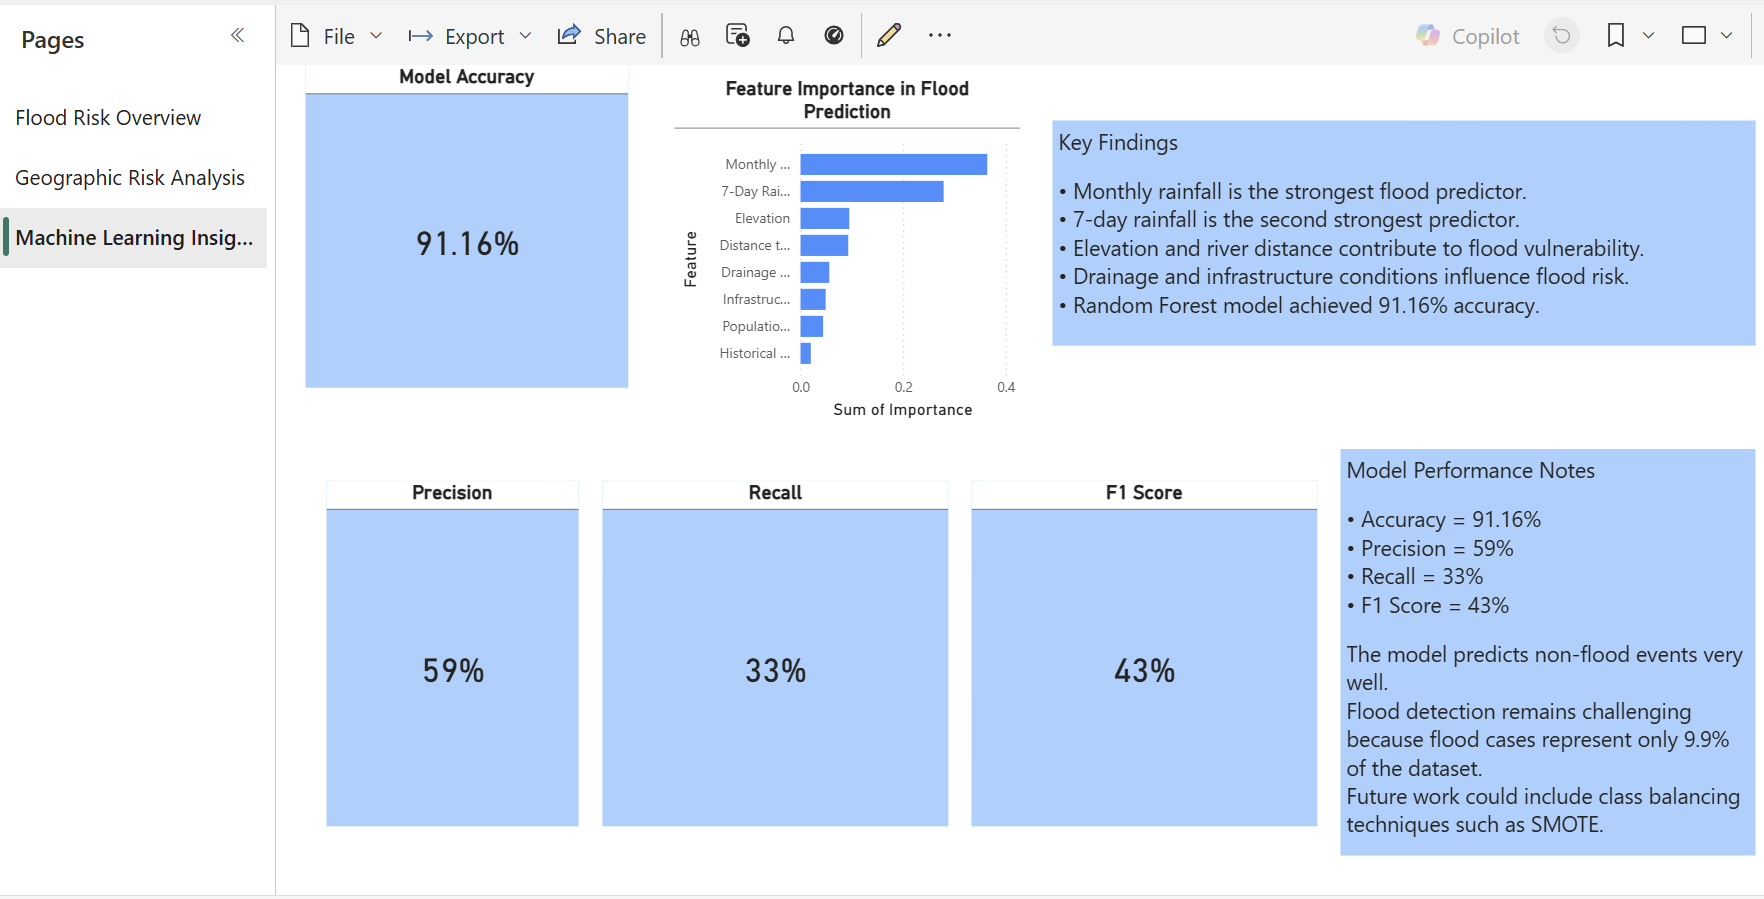

This screenshot's page, from the dashboard's own definition file:
{"tool":"powerbi","page":{"name":"Machine Learning Insights","canvas":[1280,720],"ordinal":2},"visuals":[{"type":"card","title":"Model Accuracy","fields":{"Values":["sri_lanka_flood_risk_dataset_25.Model Accuracy"]},"box":[20,0,280,280],"z":0},{"type":"clusteredBarChart","title":"Feature Importance in Flood Prediction","fields":{"Category":["FeatureImportance.Feature"],"Y":["Sum(FeatureImportance.Importance)"]},"box":[340,10,300,300],"z":1000},{"type":"card","title":"Precision","fields":{"Values":["sri_lanka_flood_risk_dataset_25.Precision"]},"box":[38.3,360,218.3,300],"z":2000},{"type":"card","title":"Recall","fields":{"Values":["sri_lanka_flood_risk_dataset_25.Recall"]},"box":[276.7,360,300,300],"z":3000},{"type":"card","title":"F1 Score","fields":{"Values":["FeatureImportance.F1 Score"]},"box":[596.7,360,300,300],"z":4000},{"type":"textbox","box":[667.5,47.5,610,195],"z":5000},{"type":"textbox","box":[917.5,332.5,360,352.5],"z":5001}]}

Visuals, with their boxes on the page's 1280x720 design canvas (x1, y1, x2, y2). These are canvas units, not pixel positions in the 1764x899 screenshot, which may show the page scaled, cropped or inside an application window:
"Model Accuracy" card: 20, 0, 300, 280
"Feature Importance in Flood Prediction" clusteredBarChart: 340, 10, 640, 310
"Precision" card: 38, 360, 257, 660
"Recall" card: 277, 360, 577, 660
"F1 Score" card: 597, 360, 897, 660
textbox: 668, 48, 1278, 242
textbox: 918, 332, 1278, 685
